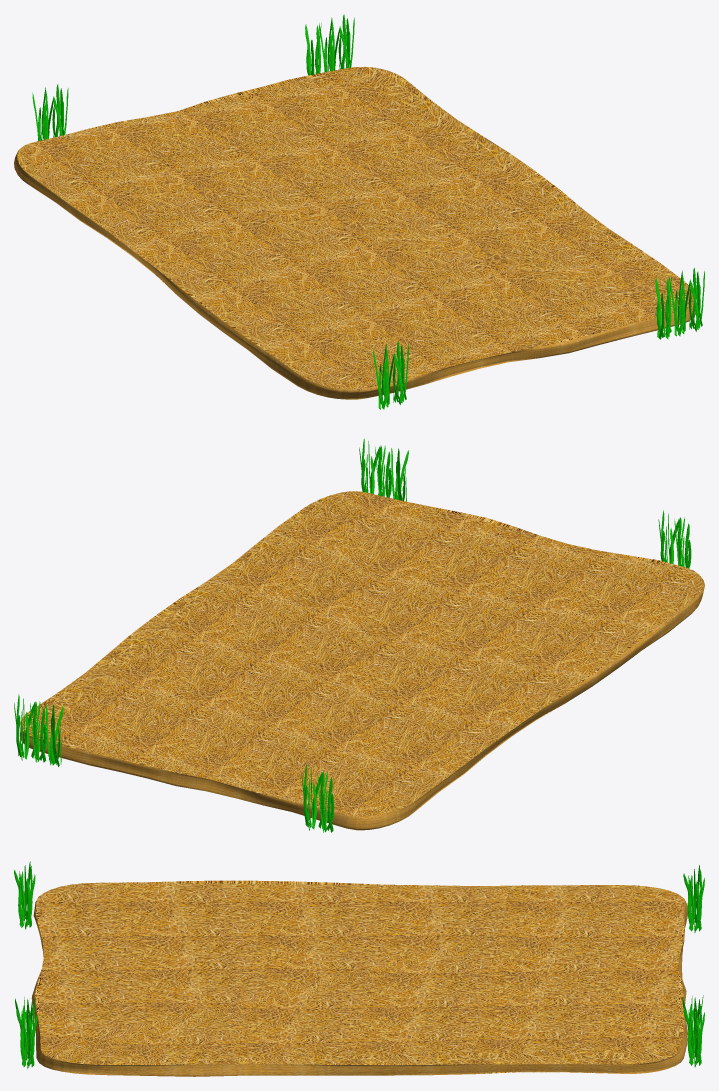
The model's file is islaFrenteDer.glb.
3 renders of one model, top to bottom at view 1: azimuth 30°, elevation 25°; view 2: azimuth 150°, elevation 25°; view 3: azimuth 270°, elevation 25°, orthographic. The views are drawn at different scales.
Parts seen in each view (by area): view 1: Cube.001, Cone, Cone.006, Cone.002, Cone.007, Cone.001, Cone.003; view 2: Cube.001, Cone.008, Cone.004, Cone.003, Cone.005, Cone.009, Cone.001; view 3: Cube.001, Cone.006, Cone.002, Cone.009, Cone.003, Cone.007, Cone.001.
Boxes of the visible parts, x1,y1,x2,y2 form: Cube.001: (14, 66, 695, 399); Cone: (655, 276, 671, 339); Cone.006: (393, 341, 408, 405); Cone.002: (689, 267, 704, 331); Cone.007: (373, 344, 393, 409); Cone.001: (669, 270, 689, 336); Cone.003: (338, 14, 354, 69); Cube.001: (20, 491, 704, 830); Cone.008: (317, 771, 334, 832); Cone.004: (30, 701, 46, 762); Cone.003: (14, 694, 34, 760); Cone.005: (46, 704, 63, 766); Cone.009: (301, 764, 322, 830); Cone.001: (375, 445, 391, 497); Cube.001: (31, 880, 687, 1076); Cone.006: (19, 871, 35, 929); Cone.002: (21, 1011, 37, 1068); Cone.009: (688, 875, 704, 932); Cone.003: (688, 1009, 704, 1067); Cone.007: (14, 861, 32, 920); Cone.001: (16, 1001, 34, 1059).
Bounding box in the file's own units: 15.49 × 2.29 × 24.45.
2 materials, 1 textured.
